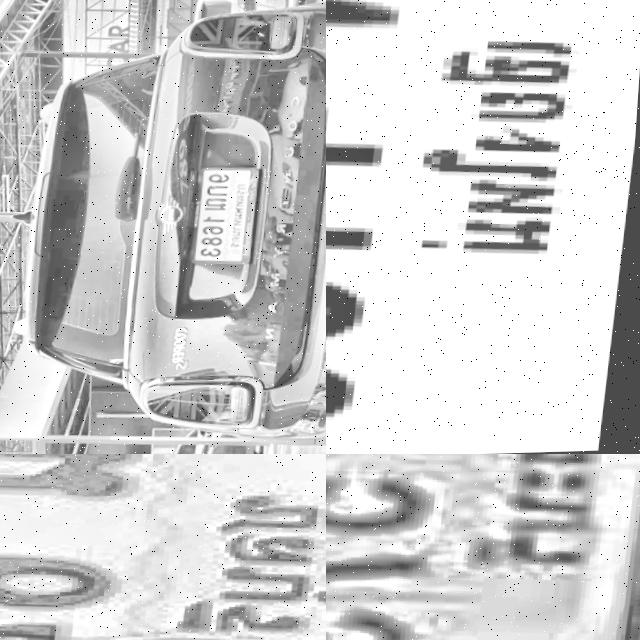license-plate: (326, 0, 640, 454), (0, 454, 326, 640), (326, 454, 640, 640), (189, 166, 265, 267)
